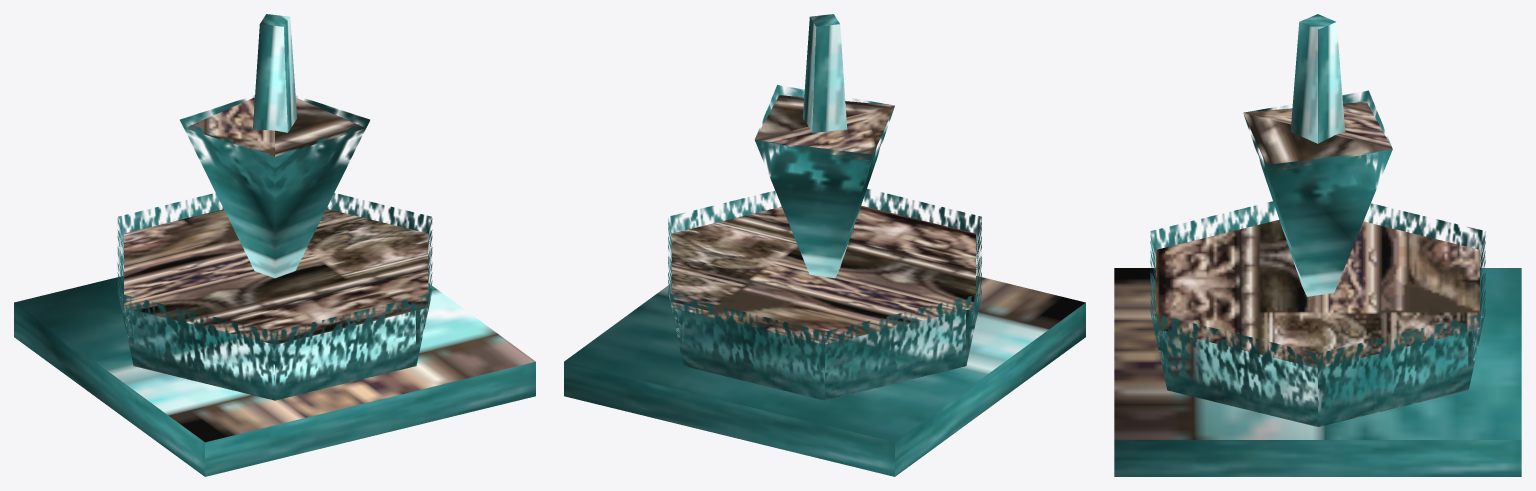
The model's file is Environment - Prop - Fountain 01 - PMFountn.glb.
The picture shows the model from 3 angles, left to right: view 1: azimuth 30°, elevation 25°; view 2: azimuth 150°, elevation 25°; view 3: azimuth 270°, elevation 25°; orthographic projection. The views are drawn at different scales.
Parts seen in each view (by area): view 1: PMFOUNTN; view 2: PMFOUNTN; view 3: PMFOUNTN.
Part boxes in pixels (bbox=[...]): PMFOUNTN: bbox=[14, 14, 535, 476]; PMFOUNTN: bbox=[564, 14, 1085, 476]; PMFOUNTN: bbox=[1114, 14, 1521, 476].
Bounding box in the file's own units: 21.34 × 21.34 × 21.34.
1 material, 1 textured.
